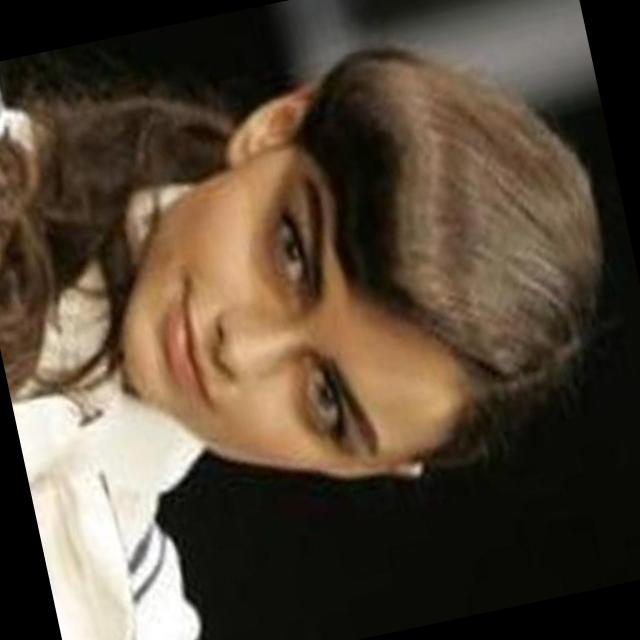bareface: (74, 61, 604, 544)
